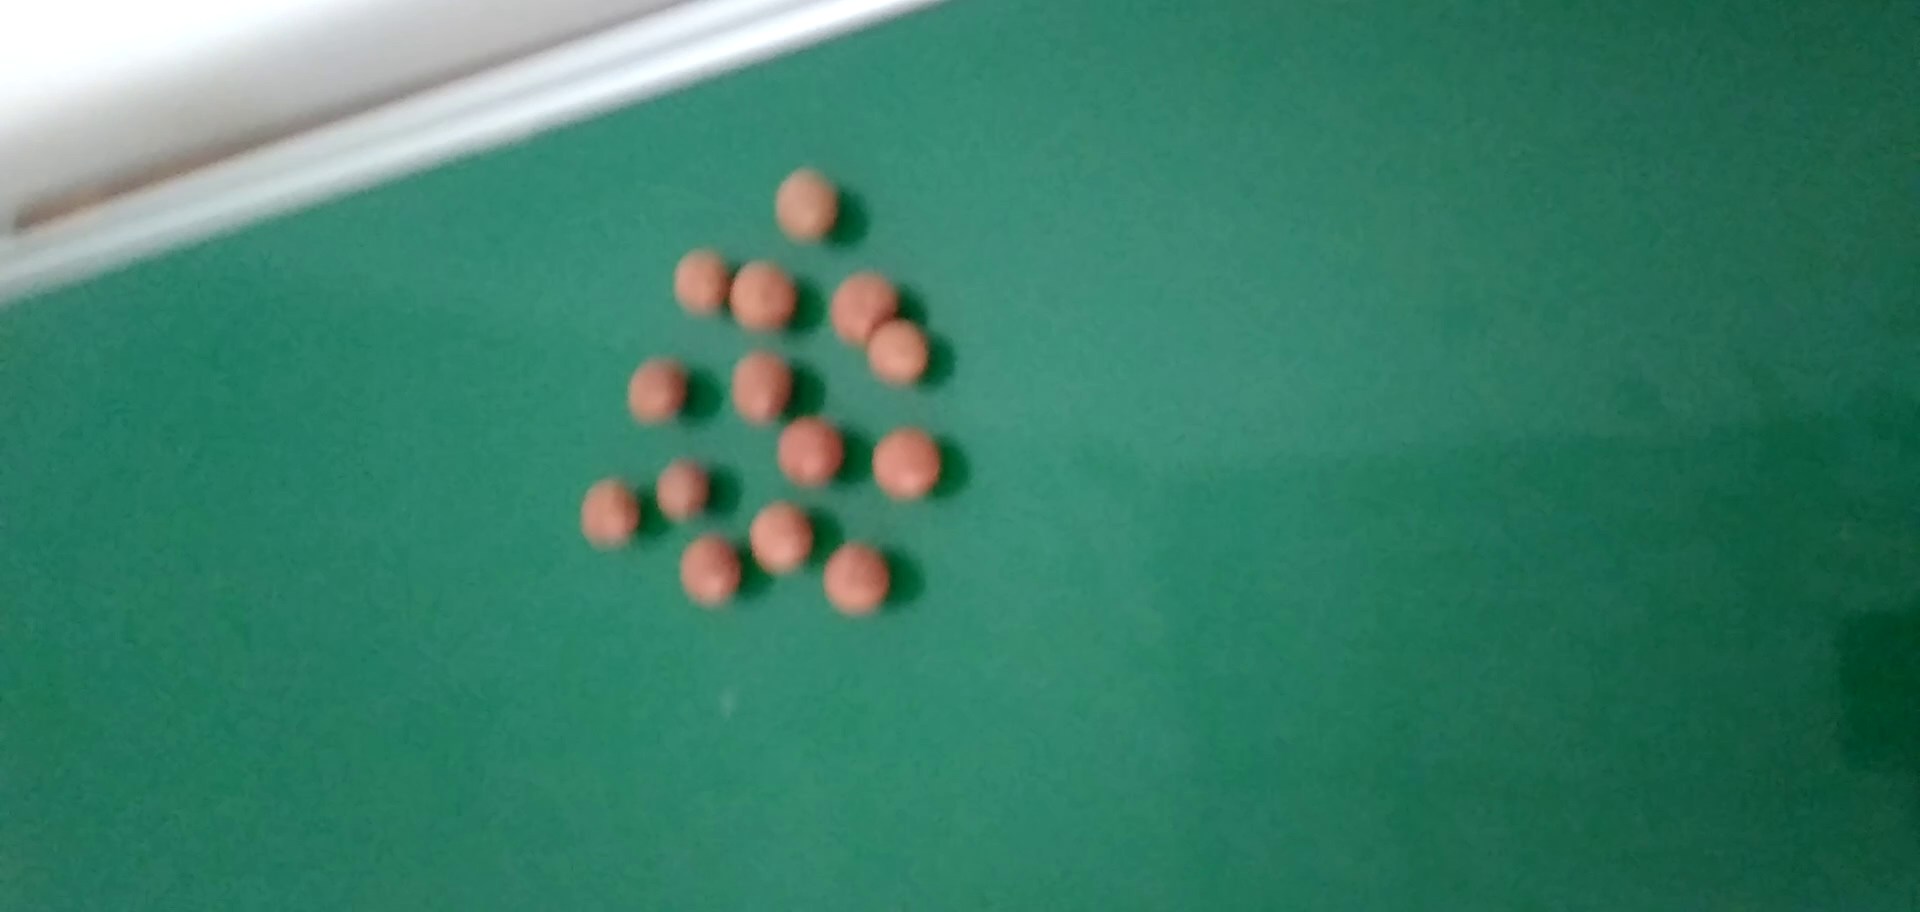mac: (778, 410, 842, 488), (874, 426, 937, 502), (747, 501, 811, 574), (730, 346, 792, 421), (731, 261, 795, 333), (579, 475, 639, 551), (775, 169, 839, 239), (677, 536, 737, 607), (831, 272, 895, 337), (827, 545, 888, 612), (671, 245, 726, 317), (628, 353, 683, 425), (869, 317, 923, 384), (655, 459, 709, 525)
